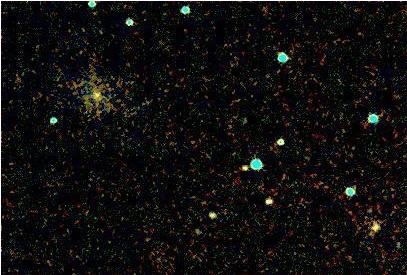star: (231, 155, 261, 185)
